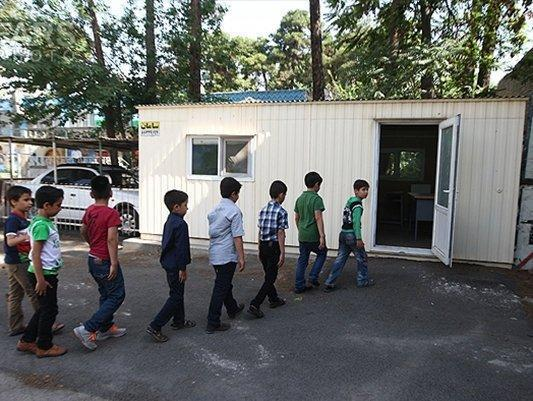affected: (125, 98, 533, 264)
